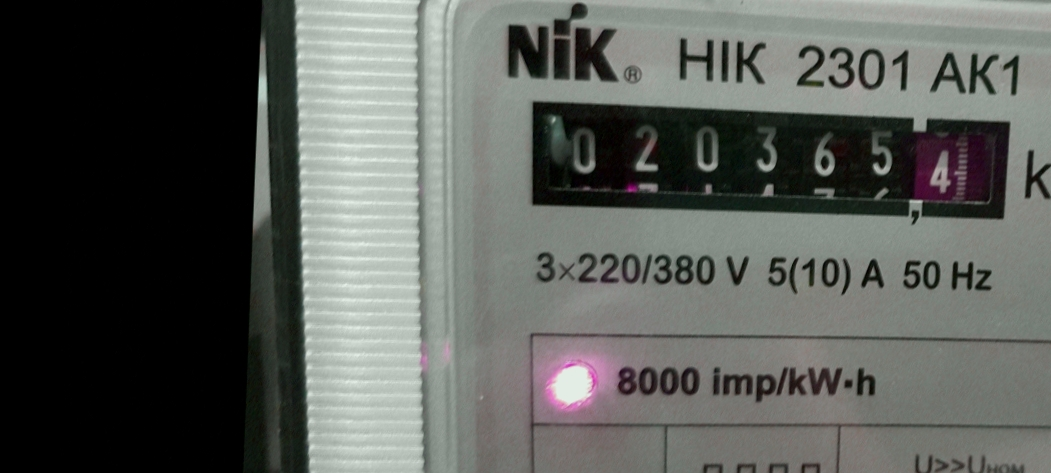0: (567, 122, 602, 178), (693, 124, 724, 174)
2: (631, 121, 663, 173)
3: (752, 124, 783, 174)
4: (928, 146, 953, 195)
5: (869, 129, 898, 177)
6: (811, 127, 839, 178)
screen: (515, 83, 1028, 241)
